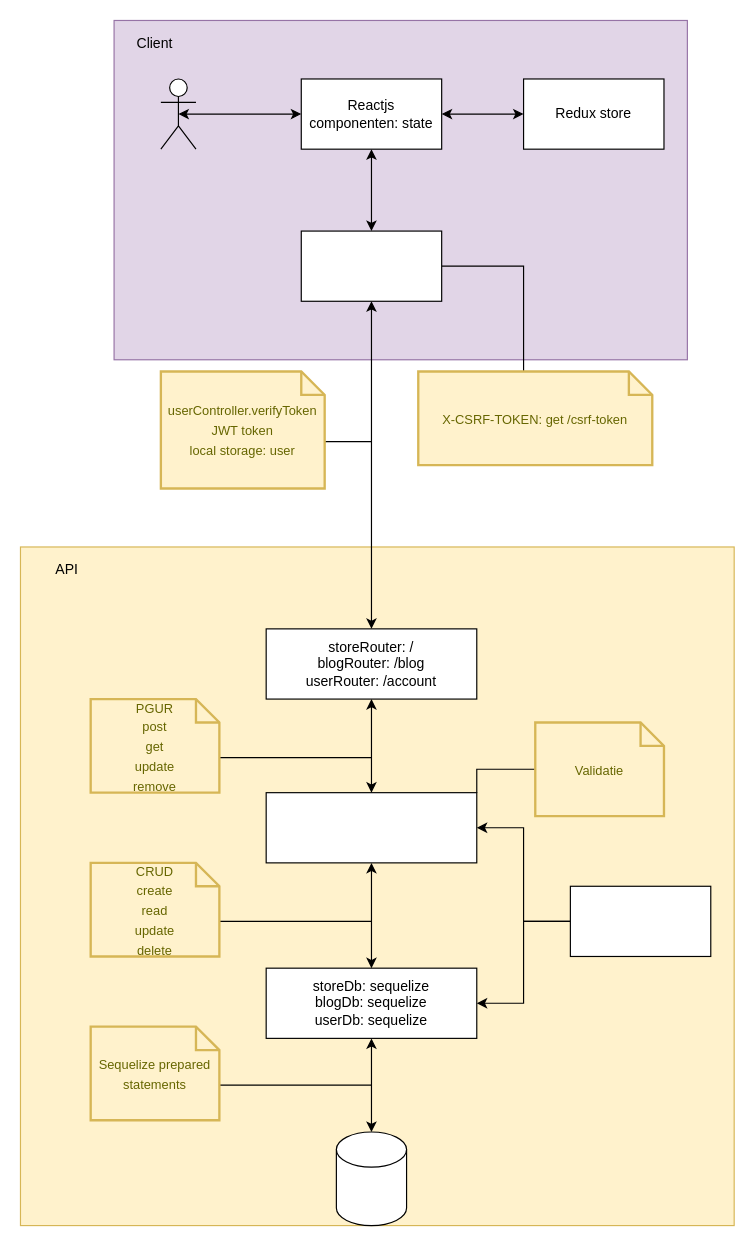
The diagram is 755 pixels wide and 1246 high, and some of its shapes have lost their labels. The shapes that lost their labels are listed below. From the top down, each one's box as (x1, y1, x2, y2) in pixels, then its label:
(160, 78, 196, 149): User
(300, 230, 442, 301): Api.js: axios
(265, 792, 477, 863): storeController: storeDb blogController: blogDb userController: userDb
(569, 885, 711, 956): models: sequelize
(335, 1131, 407, 1226): Databank
